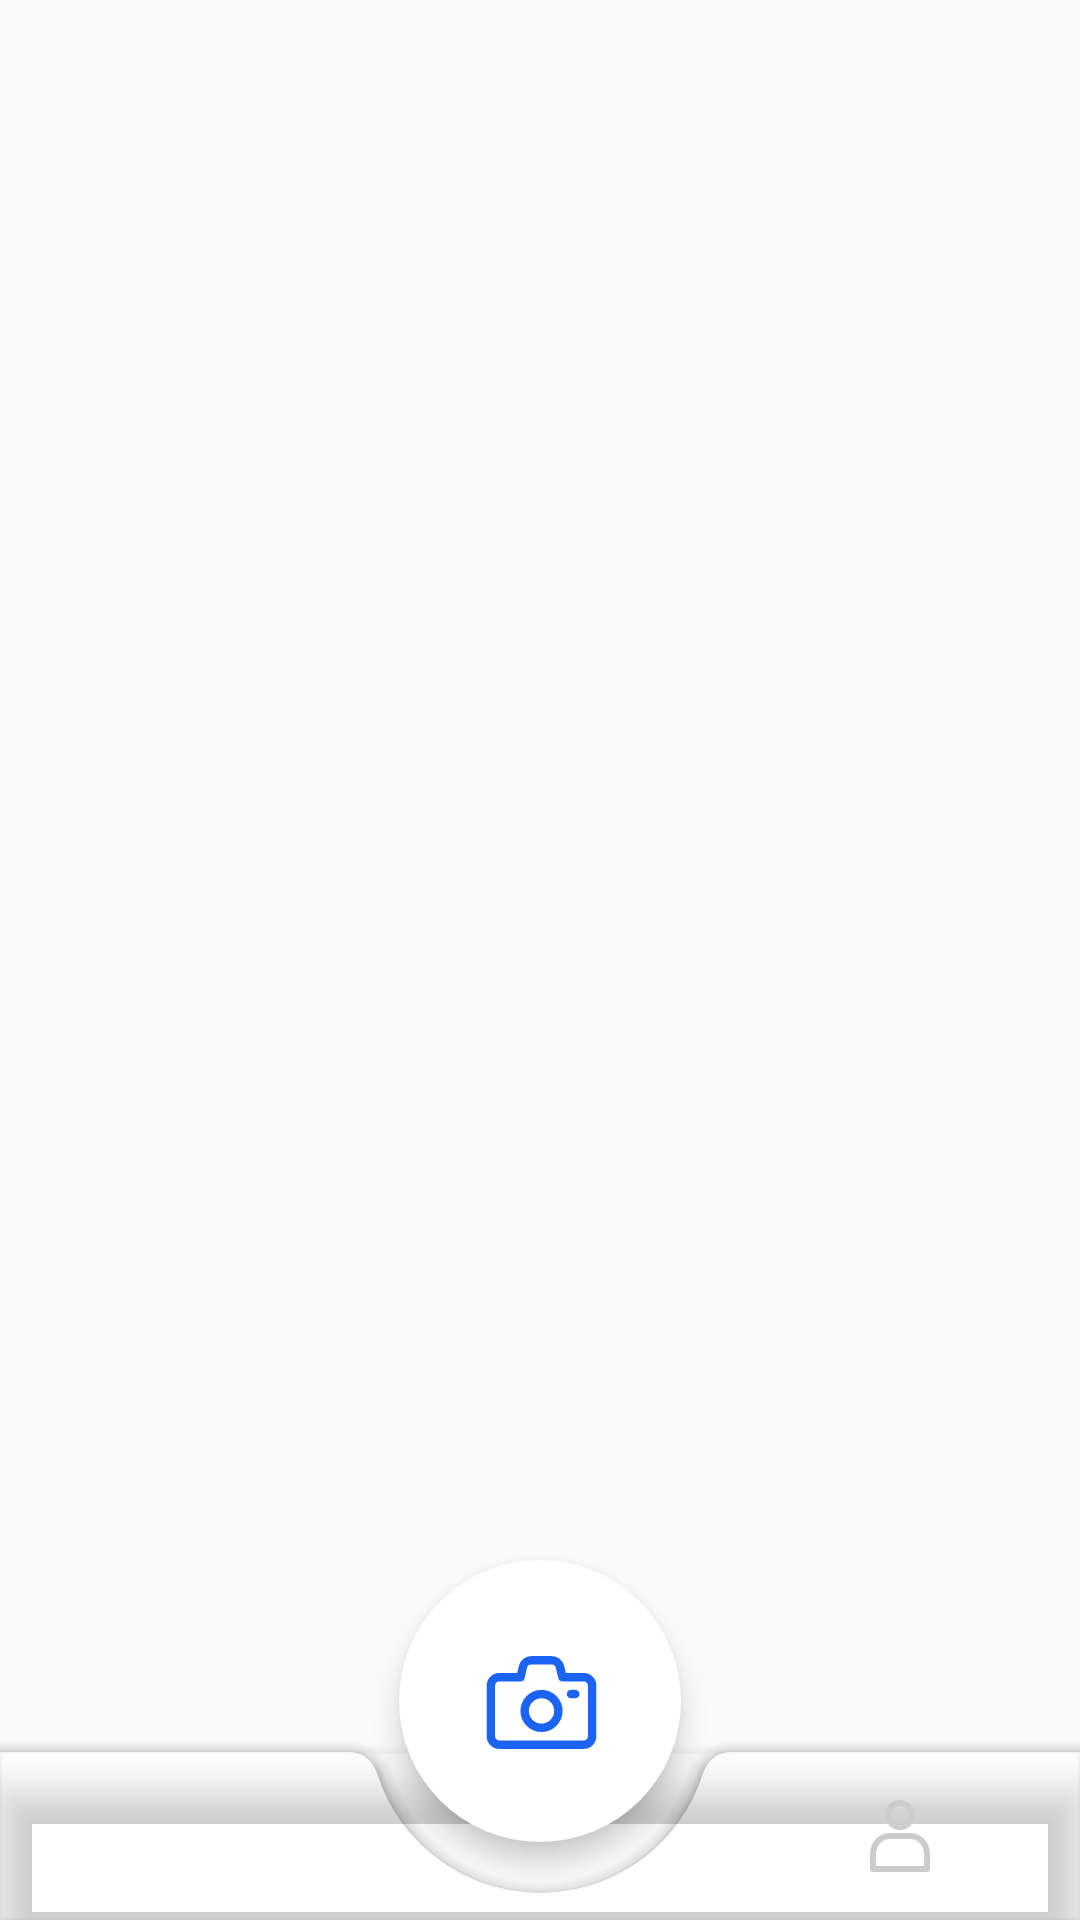

Icons on this 1080px x 1920px Android screen, each with the point to tap as (x=x, y=y):
camera: (x=540, y=1764)
